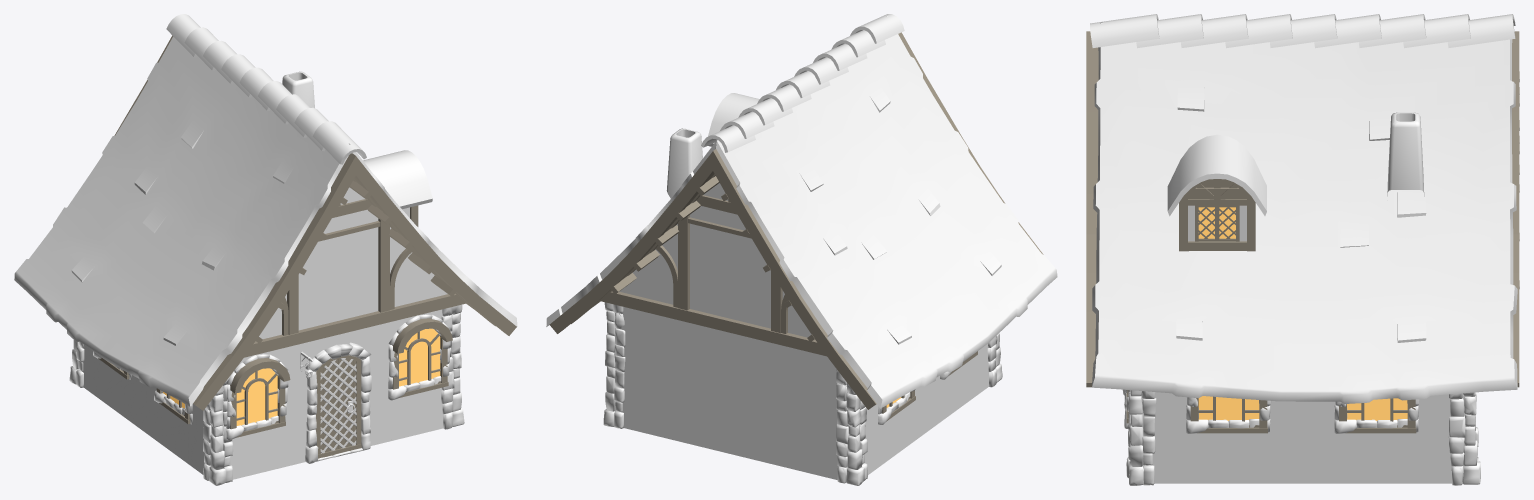
The model's file is icemantle_trade_hall.glb.
The picture shows the model from 3 angles, left to right: view 1: azimuth 30°, elevation 25°; view 2: azimuth 150°, elevation 25°; view 3: azimuth 270°, elevation 25°; orthographic projection. The views are drawn at different scales.
Visible parts, largest first — view 1: village/MI_FlatTiles, village/MI_UnevenBrick, village/MI_WoodTrim, village/MI_RockTrim, village/MI_WoodTrim_Wear, village/MI_RoundTiles, village/MI_WindowGlass, village/MI_MetalOrnaments; view 2: village/MI_FlatTiles, village/MI_UnevenBrick, village/MI_WoodTrim, village/MI_RockTrim, village/MI_RoundTiles; view 3: village/MI_FlatTiles, village/MI_UnevenBrick, village/MI_RoundTiles, village/MI_WoodTrim, village/MI_RockTrim, village/MI_WindowGlass, village/MI_WoodTrim_Wear.
Part boxes in pixels (bbox=[...]): village/MI_FlatTiles: bbox=[14, 36, 517, 406]; village/MI_UnevenBrick: bbox=[83, 71, 458, 479]; village/MI_WoodTrim: bbox=[114, 35, 516, 410]; village/MI_RockTrim: bbox=[69, 304, 464, 485]; village/MI_WoodTrim_Wear: bbox=[98, 318, 452, 458]; village/MI_RoundTiles: bbox=[166, 14, 366, 164]; village/MI_WindowGlass: bbox=[163, 328, 440, 425]; village/MI_MetalOrnaments: bbox=[320, 358, 356, 453]; village/MI_FlatTiles: bbox=[546, 15, 1057, 408]; village/MI_UnevenBrick: bbox=[613, 128, 988, 479]; village/MI_WoodTrim: bbox=[549, 32, 1043, 409]; village/MI_RockTrim: bbox=[603, 302, 1002, 485]; village/MI_RoundTiles: bbox=[701, 14, 904, 152]; village/MI_FlatTiles: bbox=[1092, 22, 1517, 403]; village/MI_UnevenBrick: bbox=[1132, 112, 1474, 483]; village/MI_RoundTiles: bbox=[1090, 14, 1515, 48]; village/MI_WoodTrim: bbox=[1086, 31, 1519, 387]; village/MI_RockTrim: bbox=[1122, 389, 1480, 485]; village/MI_WindowGlass: bbox=[1198, 207, 1407, 420]; village/MI_WoodTrim_Wear: bbox=[1126, 390, 1416, 433].
Size of the model in its own units: 8.61 by 7.66 by 7.59.
